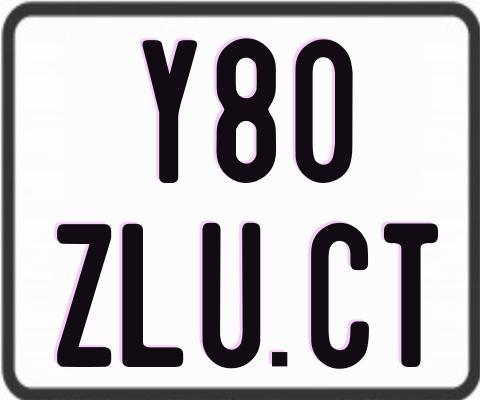0: (294, 39, 352, 187)
8: (215, 38, 275, 189)
C: (310, 222, 374, 368)
L: (122, 221, 188, 364)
T: (383, 220, 442, 364)
U: (200, 220, 263, 368)
Y: (139, 39, 197, 185)
Z: (55, 221, 112, 364)
